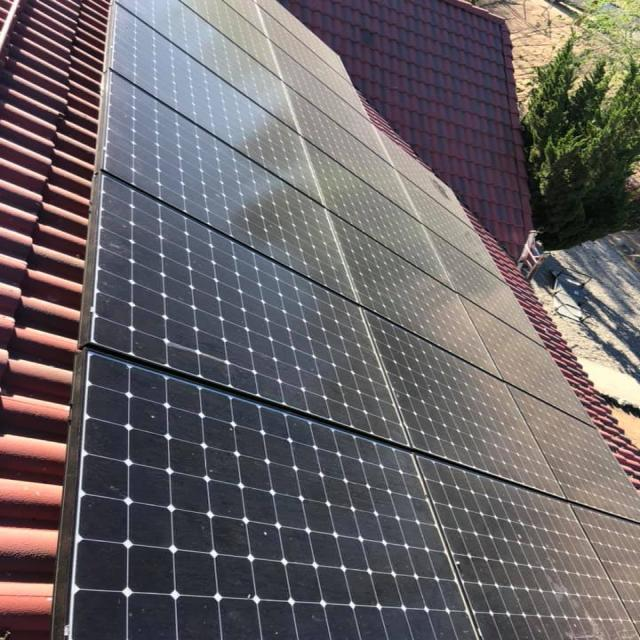dust-solar-panel: (65, 2, 640, 640)
